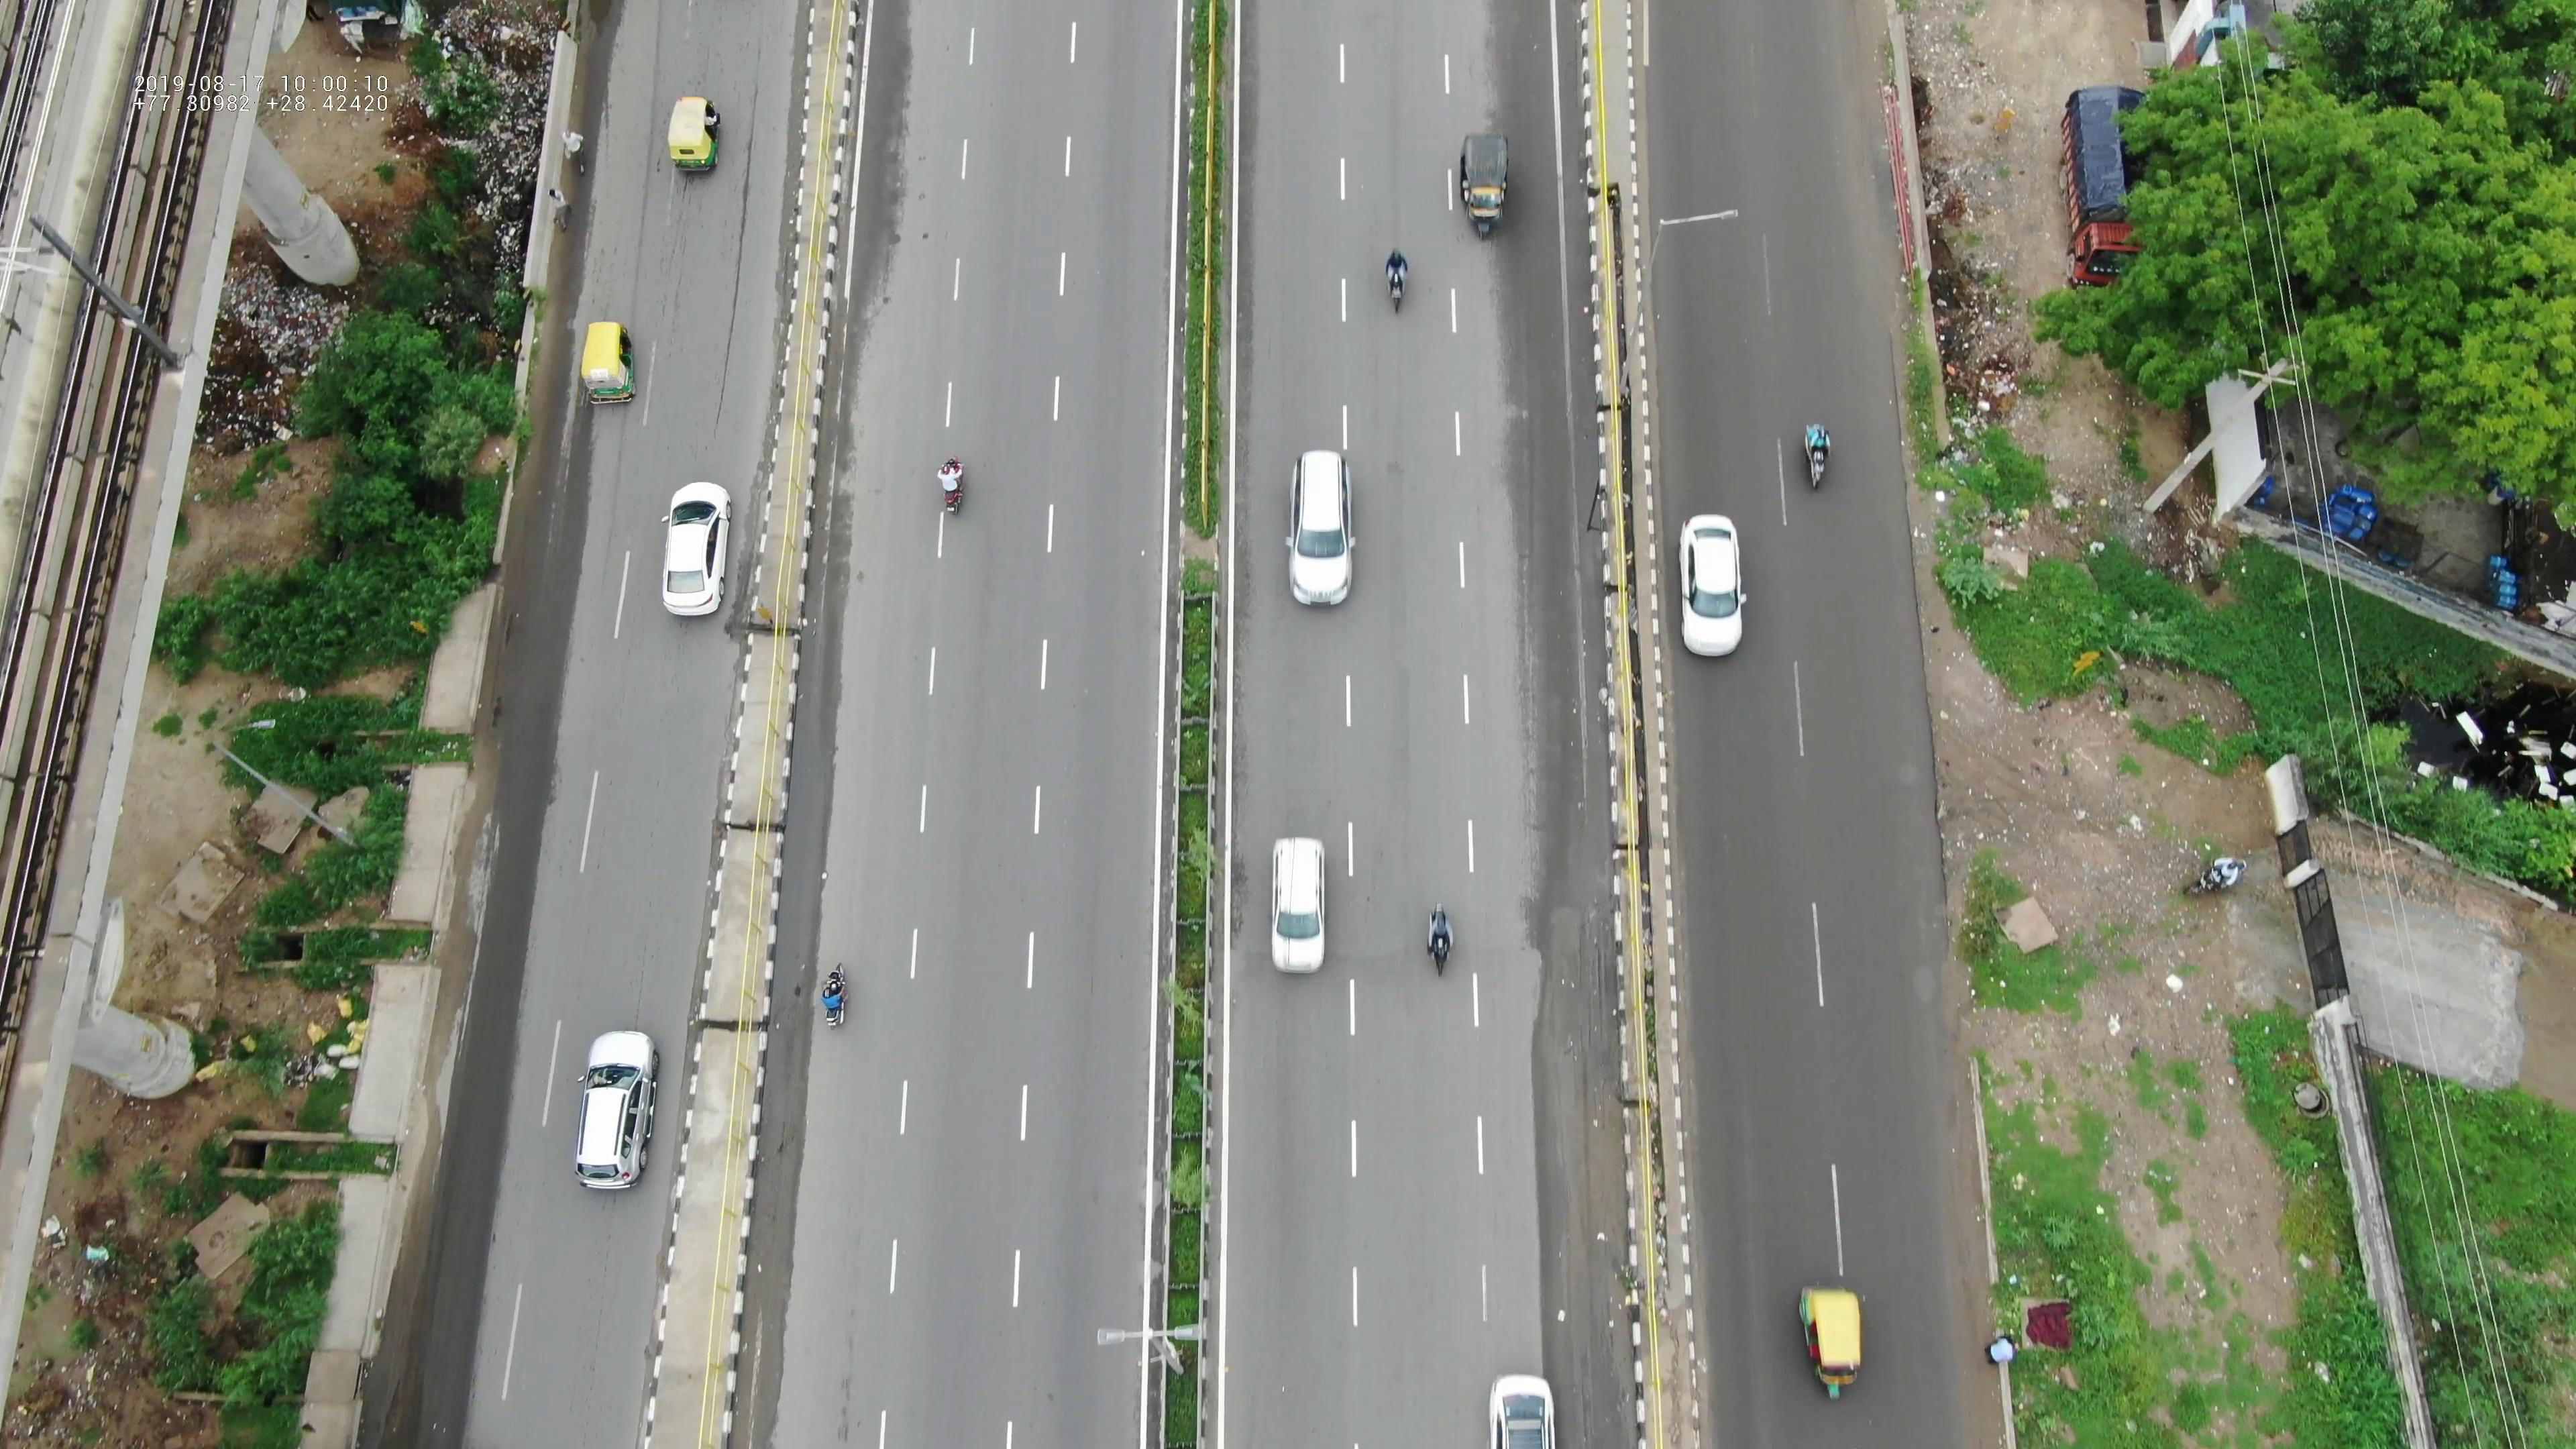Road_side_garbage: (389, 11, 589, 324), (1900, 88, 2017, 441)
